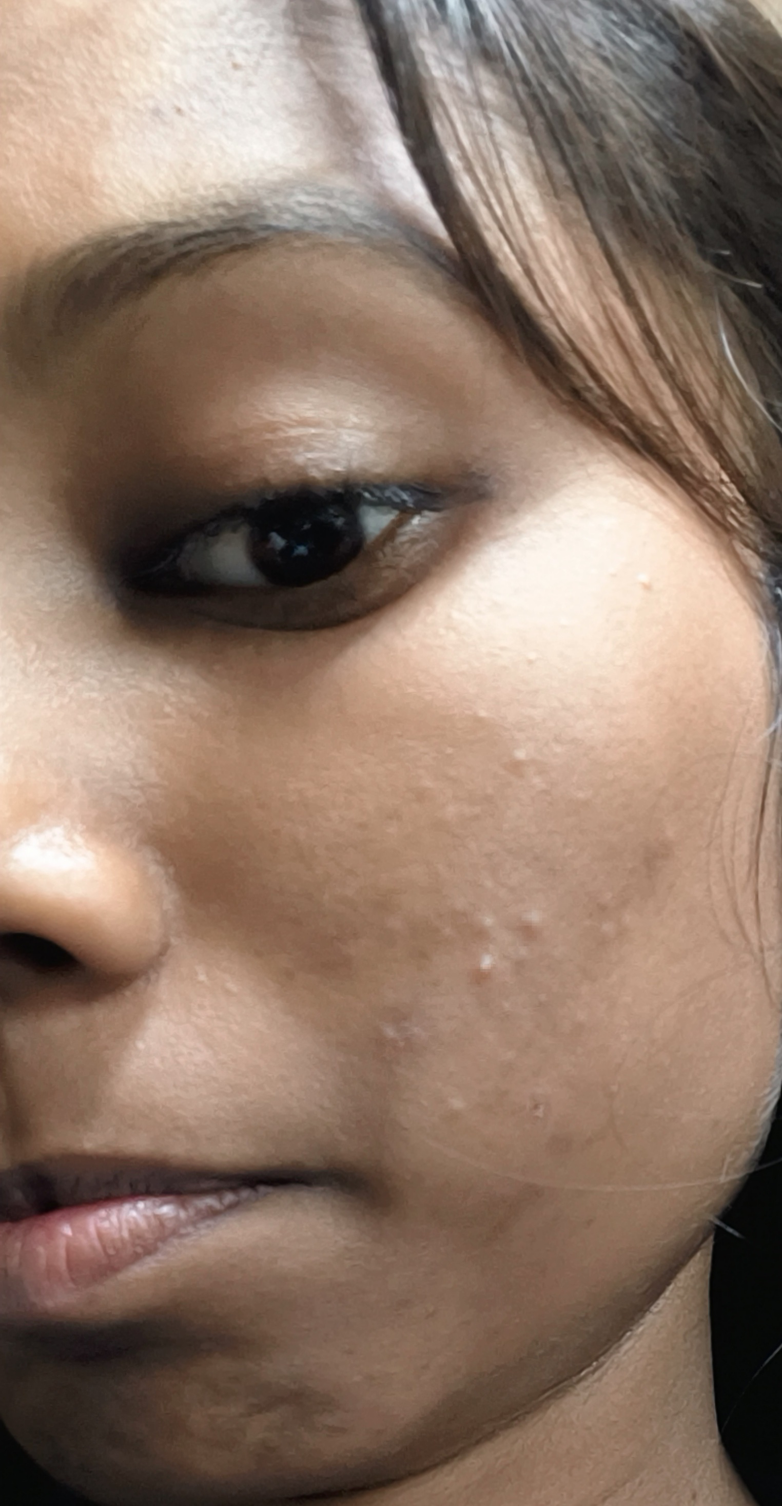closed_comedone: (505, 721, 555, 798)
papule: (423, 1061, 483, 1123)
pustule: (508, 890, 592, 942), (465, 939, 525, 1006)
